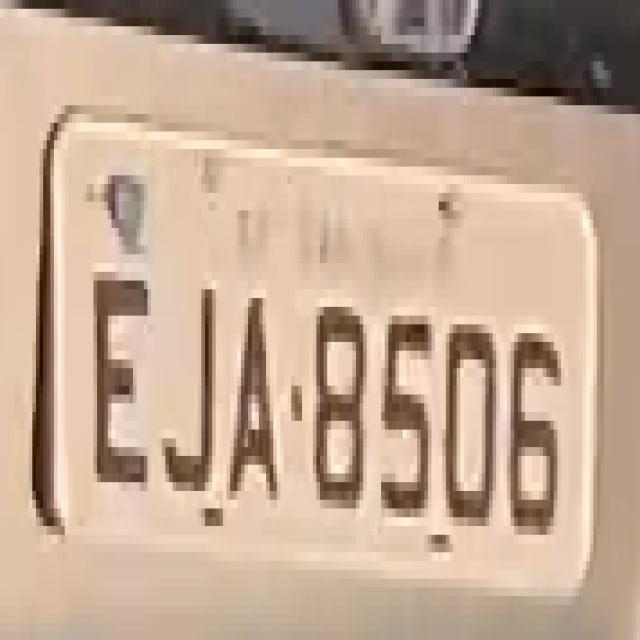Placa_mercosul_carro: (44, 121, 597, 592)
